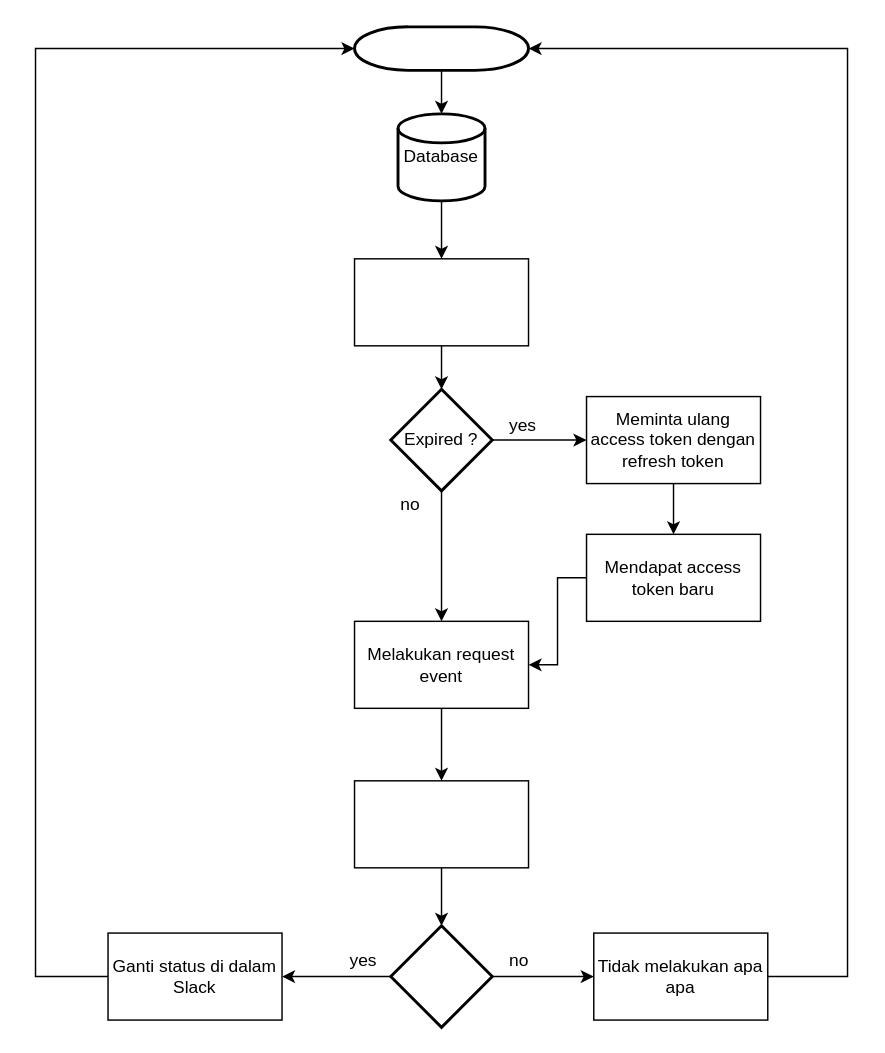
Image size: 885x1053. Some labels were removed from this diagram. Each missing label, with the centre of its shape:
"Cocok ?" belongs at [441,976].
"Melakukan check access token microsoft" belongs at [441,301].
"Melakukan pengecekan waktu sekarang dengan data event" belongs at [441,823].
"start" belongs at [440,48].
